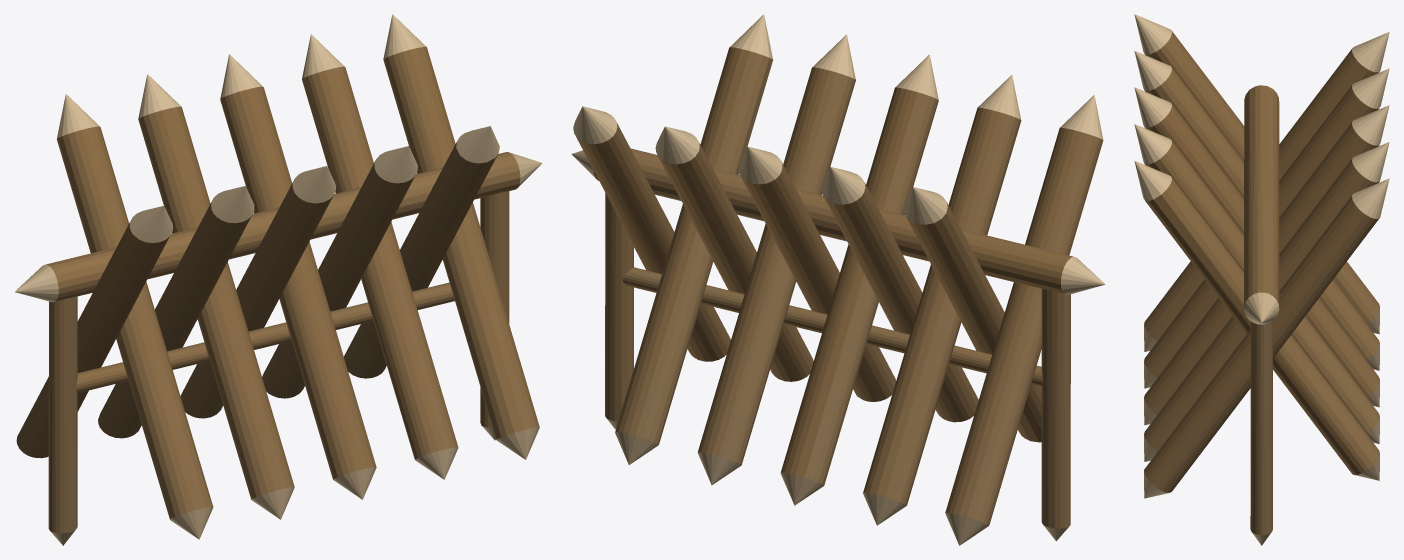
The model's file is WallPike.fbx.
3 renders of one model, left to right at view 1: azimuth 30°, elevation 25°; view 2: azimuth 150°, elevation 25°; view 3: azimuth 270°, elevation 25°, orthographic. The views are drawn at different scales.
Visible parts, largest first — view 1: WallPike; view 2: WallPike; view 3: WallPike.
Part boxes in pixels (<box>): WallPike: <box>15,14,542,545</box>; WallPike: <box>571,14,1105,545</box>; WallPike: <box>1134,14,1389,545</box>.
Size of the model in its own units: 2.35 by 1.07 by 1.63.
1 material, 1 textured.
